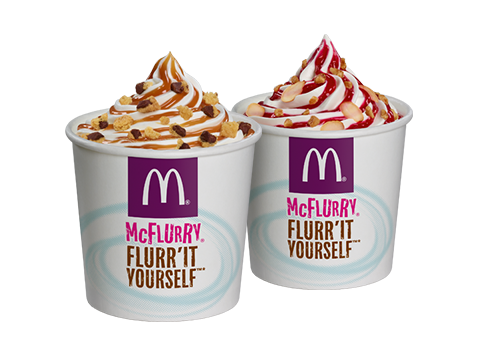mcdonalds: (136, 165, 191, 214), (295, 147, 345, 190)
